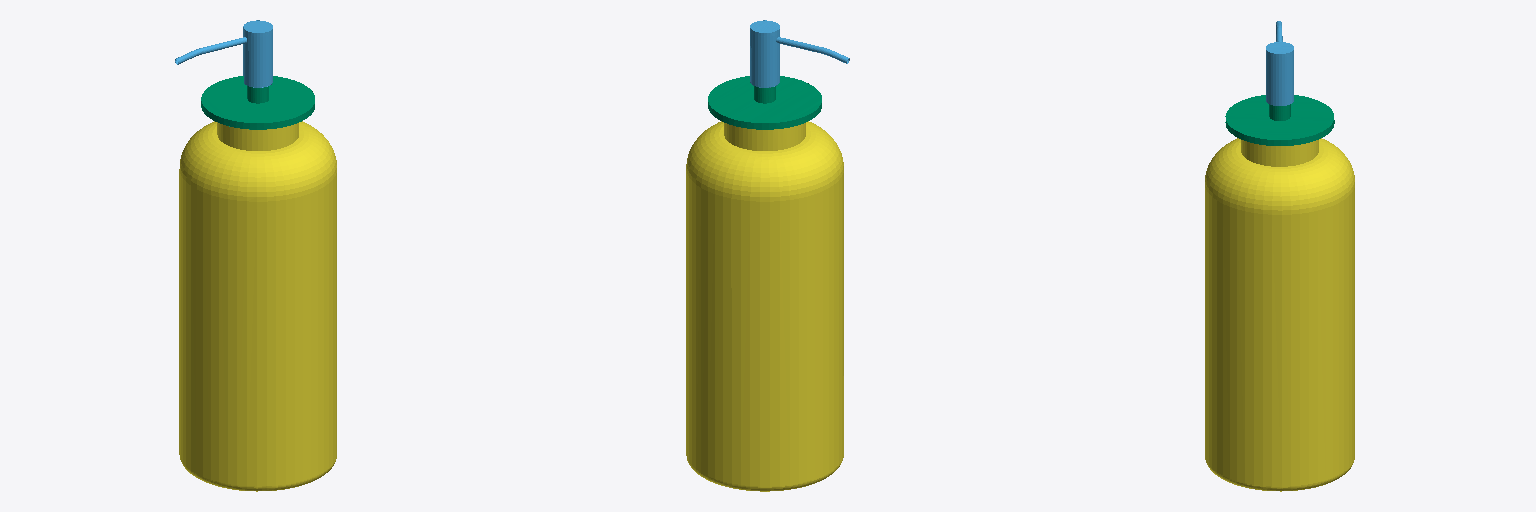
URDF robot description (partnet_e4855c2e-b91c-4372-81fc-cedf42a99185-0):
<?xml version="1.0" ?>
<robot name="partnet_e4855c2e-b91c-4372-81fc-cedf42a99185-0">
	<link name="base"/>
	<link name="link_0">
		<visual name="pressing_lid-1">
			<origin xyz="-0.009750109228952437 0 -0.00019839186977227983"/>
			<geometry>
				<mesh filename="textured_objs/original_6.obj"/>
			</geometry>
		</visual>
		<visual name="pressing_lid-1">
			<origin xyz="-0.009750109228952437 0 -0.00019839186977227983"/>
			<geometry>
				<mesh filename="textured_objs/original_4.obj"/>
			</geometry>
		</visual>
		<visual name="pressing_lid-1">
			<origin xyz="-0.009750109228952437 0 -0.00019839186977227983"/>
			<geometry>
				<mesh filename="textured_objs/original_3.obj"/>
			</geometry>
		</visual>
		<collision>
			<origin xyz="-0.009750109228952437 0 -0.00019839186977227983"/>
			<geometry>
				<mesh filename="textured_objs/original_6.obj"/>
			</geometry>
		</collision>
		<collision>
			<origin xyz="-0.009750109228952437 0 -0.00019839186977227983"/>
			<geometry>
				<mesh filename="textured_objs/original_4.obj"/>
			</geometry>
		</collision>
		<collision>
			<origin xyz="-0.009750109228952437 0 -0.00019839186977227983"/>
			<geometry>
				<mesh filename="textured_objs/original_3.obj"/>
			</geometry>
		</collision>
	</link>
	<joint name="joint_0" type="continuous">
		<origin xyz="0.0 0 0.0"/>
		<axis xyz="0 1 0"/>
		<child link="link_0"/>
		<parent link="link_0_helper"/>
	</joint>
	<link name="link_1">
		<visual name="head-3">
			<origin xyz="-0.009750053090139935 0 -0.00019853128332106632"/>
			<geometry>
				<mesh filename="textured_objs/original_10.obj"/>
			</geometry>
		</visual>
		<visual name="head-3">
			<origin xyz="-0.009750053090139935 0 -0.00019853128332106632"/>
			<geometry>
				<mesh filename="textured_objs/original_7.obj"/>
			</geometry>
		</visual>
		<collision>
			<origin xyz="-0.009750053090139935 0 -0.00019853128332106632"/>
			<geometry>
				<mesh filename="textured_objs/original_10.obj"/>
			</geometry>
		</collision>
		<collision>
			<origin xyz="-0.009750053090139935 0 -0.00019853128332106632"/>
			<geometry>
				<mesh filename="textured_objs/original_7.obj"/>
			</geometry>
		</collision>
	</link>
	<joint name="joint_1" type="continuous">
		<origin xyz="0.0 0 0.0"/>
		<axis xyz="0 -1 0"/>
		<child link="link_1"/>
		<parent link="link_1_helper"/>
	</joint>
	<link name="link_2">
		<visual name="base_body-5">
			<origin xyz="0 0 0"/>
			<geometry>
				<mesh filename="textured_objs/original_9.obj"/>
			</geometry>
		</visual>
		<collision>
			<origin xyz="0 0 0"/>
			<geometry>
				<mesh filename="textured_objs/original_9.obj"/>
			</geometry>
		</collision>
	</link>
	<joint name="joint_2" type="fixed">
		<origin rpy="1.570796326794897 0 -1.570796326794897" xyz="0 0 0"/>
		<child link="link_2"/>
		<parent link="base"/>
	</joint>
	<link name="link_0_helper">
		<inertial>
			<origin xyz="0 0 0"/>
			<mass value="1e-6"/>
			<inertia ixx="1e-10" ixy="0" ixz="0" iyy="1e-10" iyz="0" izz="1e-10"/>
		</inertial>
	</link>
	<joint name="joint_3" type="prismatic">
		<origin xyz="5.613881250143837e-08 0 -1.394135487864899e-07"/>
		<axis xyz="0 -1 0"/>
		<child link="link_0_helper"/>
		<parent link="link_1"/>
		<limit lower="0" upper="0.06"/>
	</joint>
	<link name="link_1_helper">
		<inertial>
			<origin xyz="0 0 0"/>
			<mass value="1e-6"/>
			<inertia ixx="1e-10" ixy="0" ixz="0" iyy="1e-10" iyz="0" izz="1e-10"/>
		</inertial>
	</link>
	<joint name="joint_4" type="prismatic">
		<origin xyz="0.009750053090139935 0 0.00019853128332106632"/>
		<axis xyz="0 1 0"/>
		<child link="link_1_helper"/>
		<parent link="link_2"/>
		<limit lower="0" upper="0.02"/>
	</joint>
</robot>

--- Facts derived from the render (not from the file) ---
The picture shows the robot from 3 angles, left to right: view 1: azimuth 30°, elevation 25°; view 2: azimuth 150°, elevation 25°; view 3: azimuth 270°, elevation 25°; orthographic projection.
Model partnet_e4855c2e-b91c-4372-81fc-cedf42a99185-0 with 6 links and 5 joints (2 continuous, 2 prismatic, 1 fixed), rooted at base, posed every joint at zero.
Links seen in each view (by area): view 1: link_2, link_1, link_0; view 2: link_2, link_1, link_0; view 3: link_2, link_1, link_0.
Link boxes in pixels (bbox=[...]): link_2: bbox=[179, 121, 336, 491]; link_1: bbox=[201, 76, 314, 129]; link_0: bbox=[175, 20, 272, 87]; link_2: bbox=[686, 121, 843, 491]; link_1: bbox=[708, 76, 821, 129]; link_0: bbox=[750, 20, 849, 87]; link_2: bbox=[1205, 138, 1354, 491]; link_1: bbox=[1225, 95, 1334, 145]; link_0: bbox=[1266, 21, 1293, 105].
Size in the robot's own frame: 0.6287 by 0.567 by 1.72 metres.
Meshes: 6 distinct files referenced, 6 mesh visuals loaded (6 OBJ).
